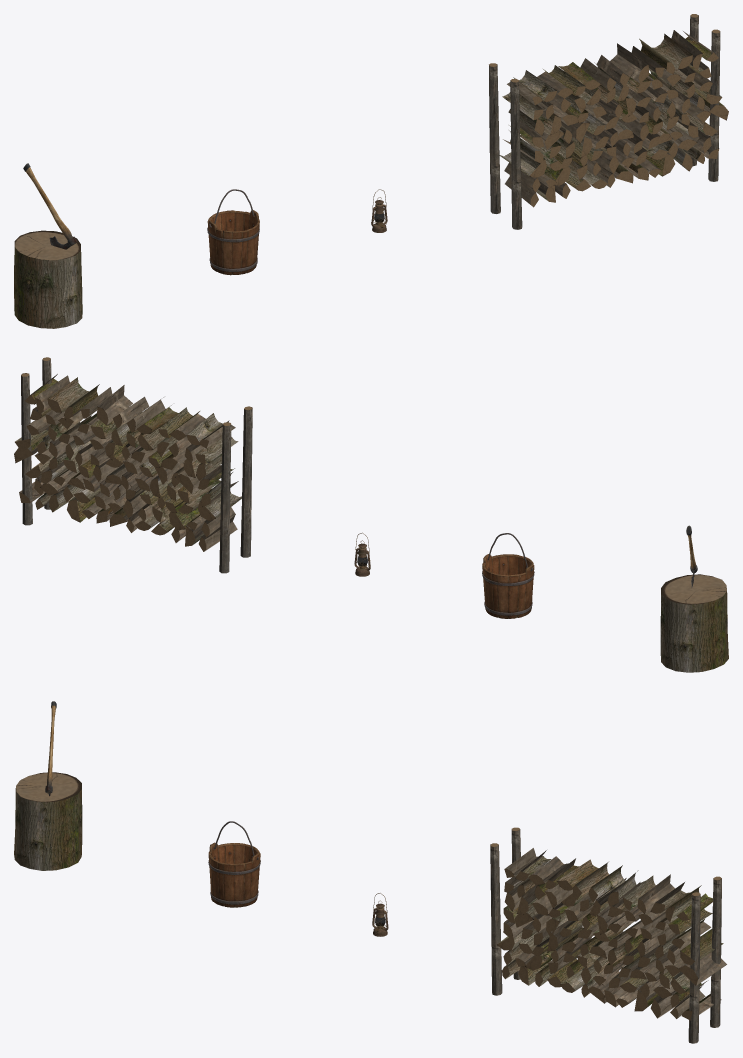
File: props.glb
3 views of the same model, one above another, from view 1: azimuth 30°, elevation 25°; view 2: azimuth 150°, elevation 25°; view 3: azimuth 330°, elevation 25° (orthographic).
Visible parts, largest first — view 1: Prop_WoodStack_mesh, Prop_ChoppingBlock_mesh, Prop_Bucket_mesh, Prop_Axe_mesh, Prop_Lantern_mesh; view 2: Prop_WoodStack_mesh, Prop_ChoppingBlock_mesh, Prop_Bucket_mesh; view 3: Prop_WoodStack_mesh, Prop_ChoppingBlock_mesh, Prop_Bucket_mesh.
Boxes of the visible parts, bbox=[...] form: Prop_WoodStack_mesh: bbox=[489, 14, 728, 229]; Prop_ChoppingBlock_mesh: bbox=[14, 230, 82, 328]; Prop_Bucket_mesh: bbox=[207, 189, 259, 275]; Prop_Axe_mesh: bbox=[23, 163, 77, 249]; Prop_Lantern_mesh: bbox=[371, 189, 387, 232]; Prop_WoodStack_mesh: bbox=[14, 357, 252, 573]; Prop_ChoppingBlock_mesh: bbox=[660, 574, 728, 672]; Prop_Bucket_mesh: bbox=[482, 533, 534, 618]; Prop_WoodStack_mesh: bbox=[490, 827, 726, 1043]; Prop_ChoppingBlock_mesh: bbox=[14, 772, 82, 870]; Prop_Bucket_mesh: bbox=[208, 821, 260, 907].
Size of the model in its own units: 5.24 by 1.16 by 0.4868.
Materials: 9 (9 with a texture image).
